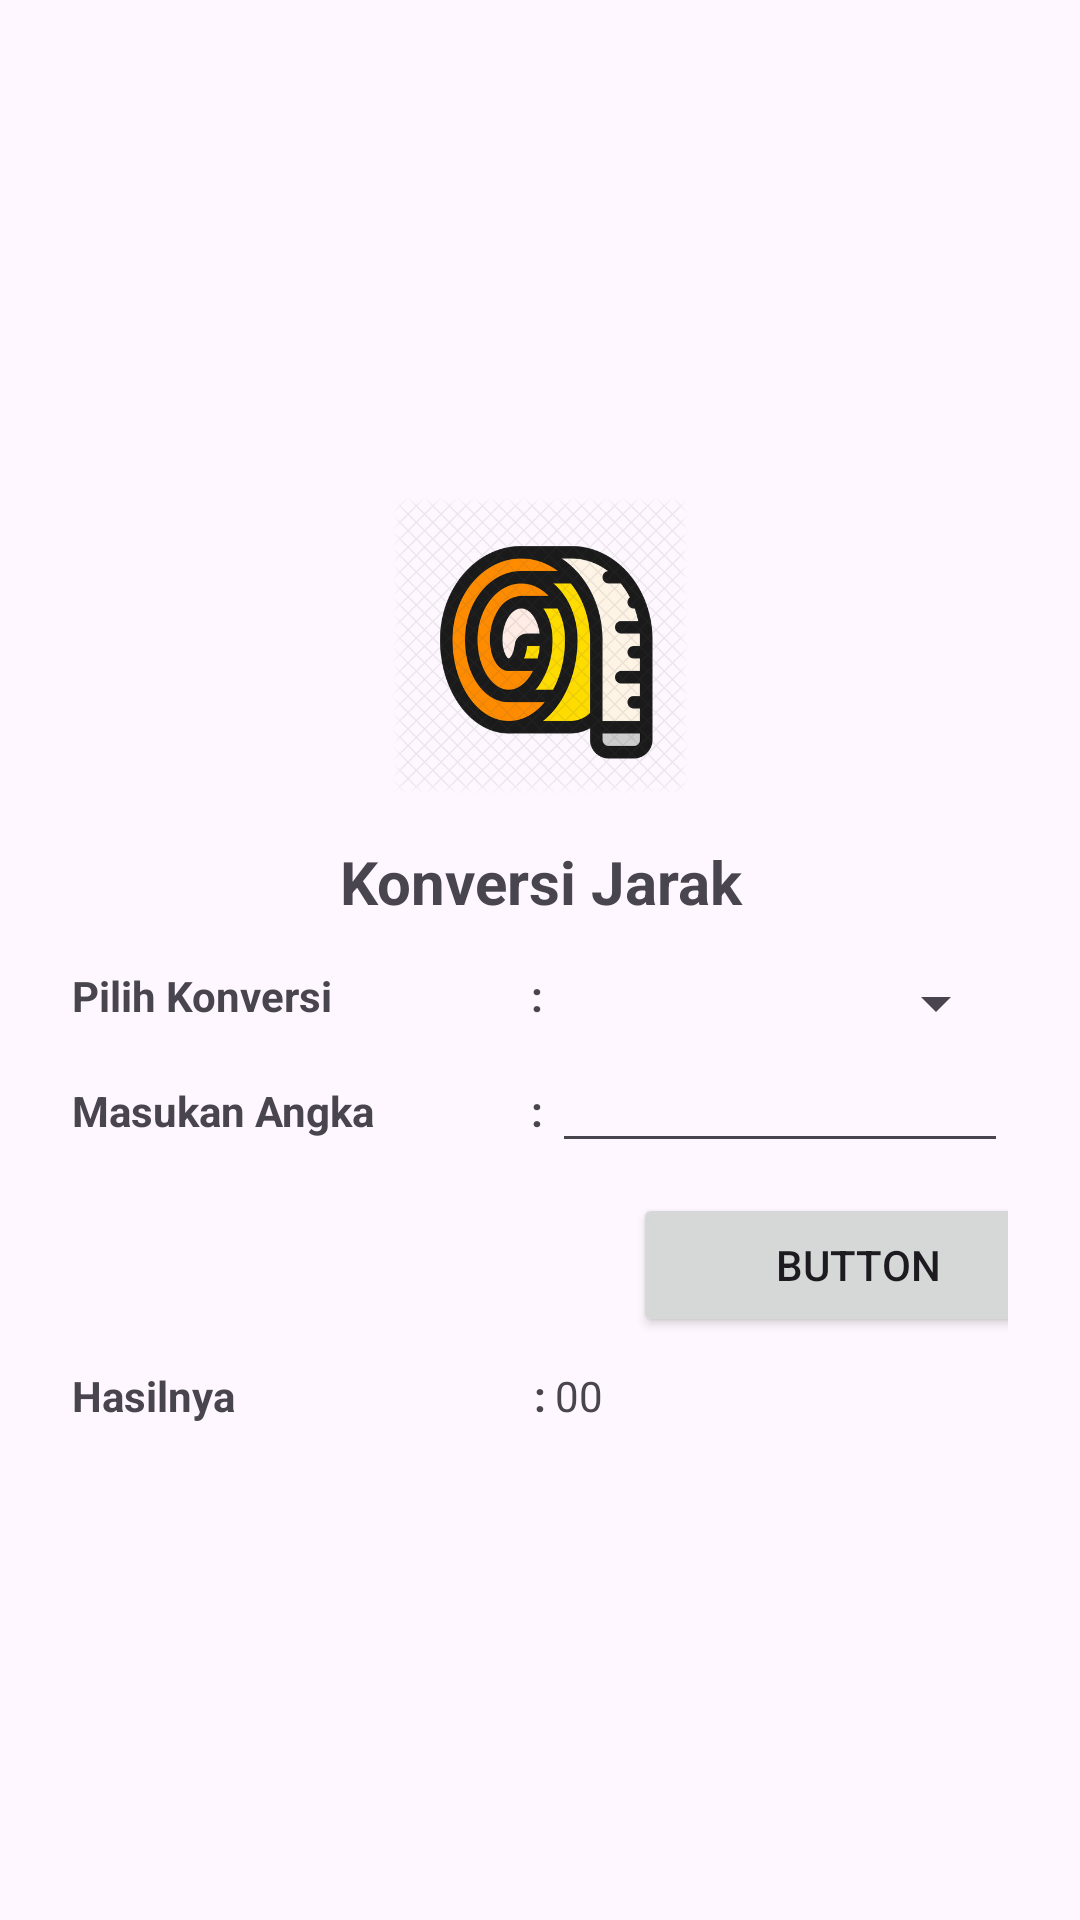

Screen size 1080px×1920px. Icon name, then its box in pixels as {"x1": x1, "y1": y1, "x2": x2, "y2": y2}:
measure tape: {"x1": 440, "y1": 546, "x2": 653, "y2": 759}
